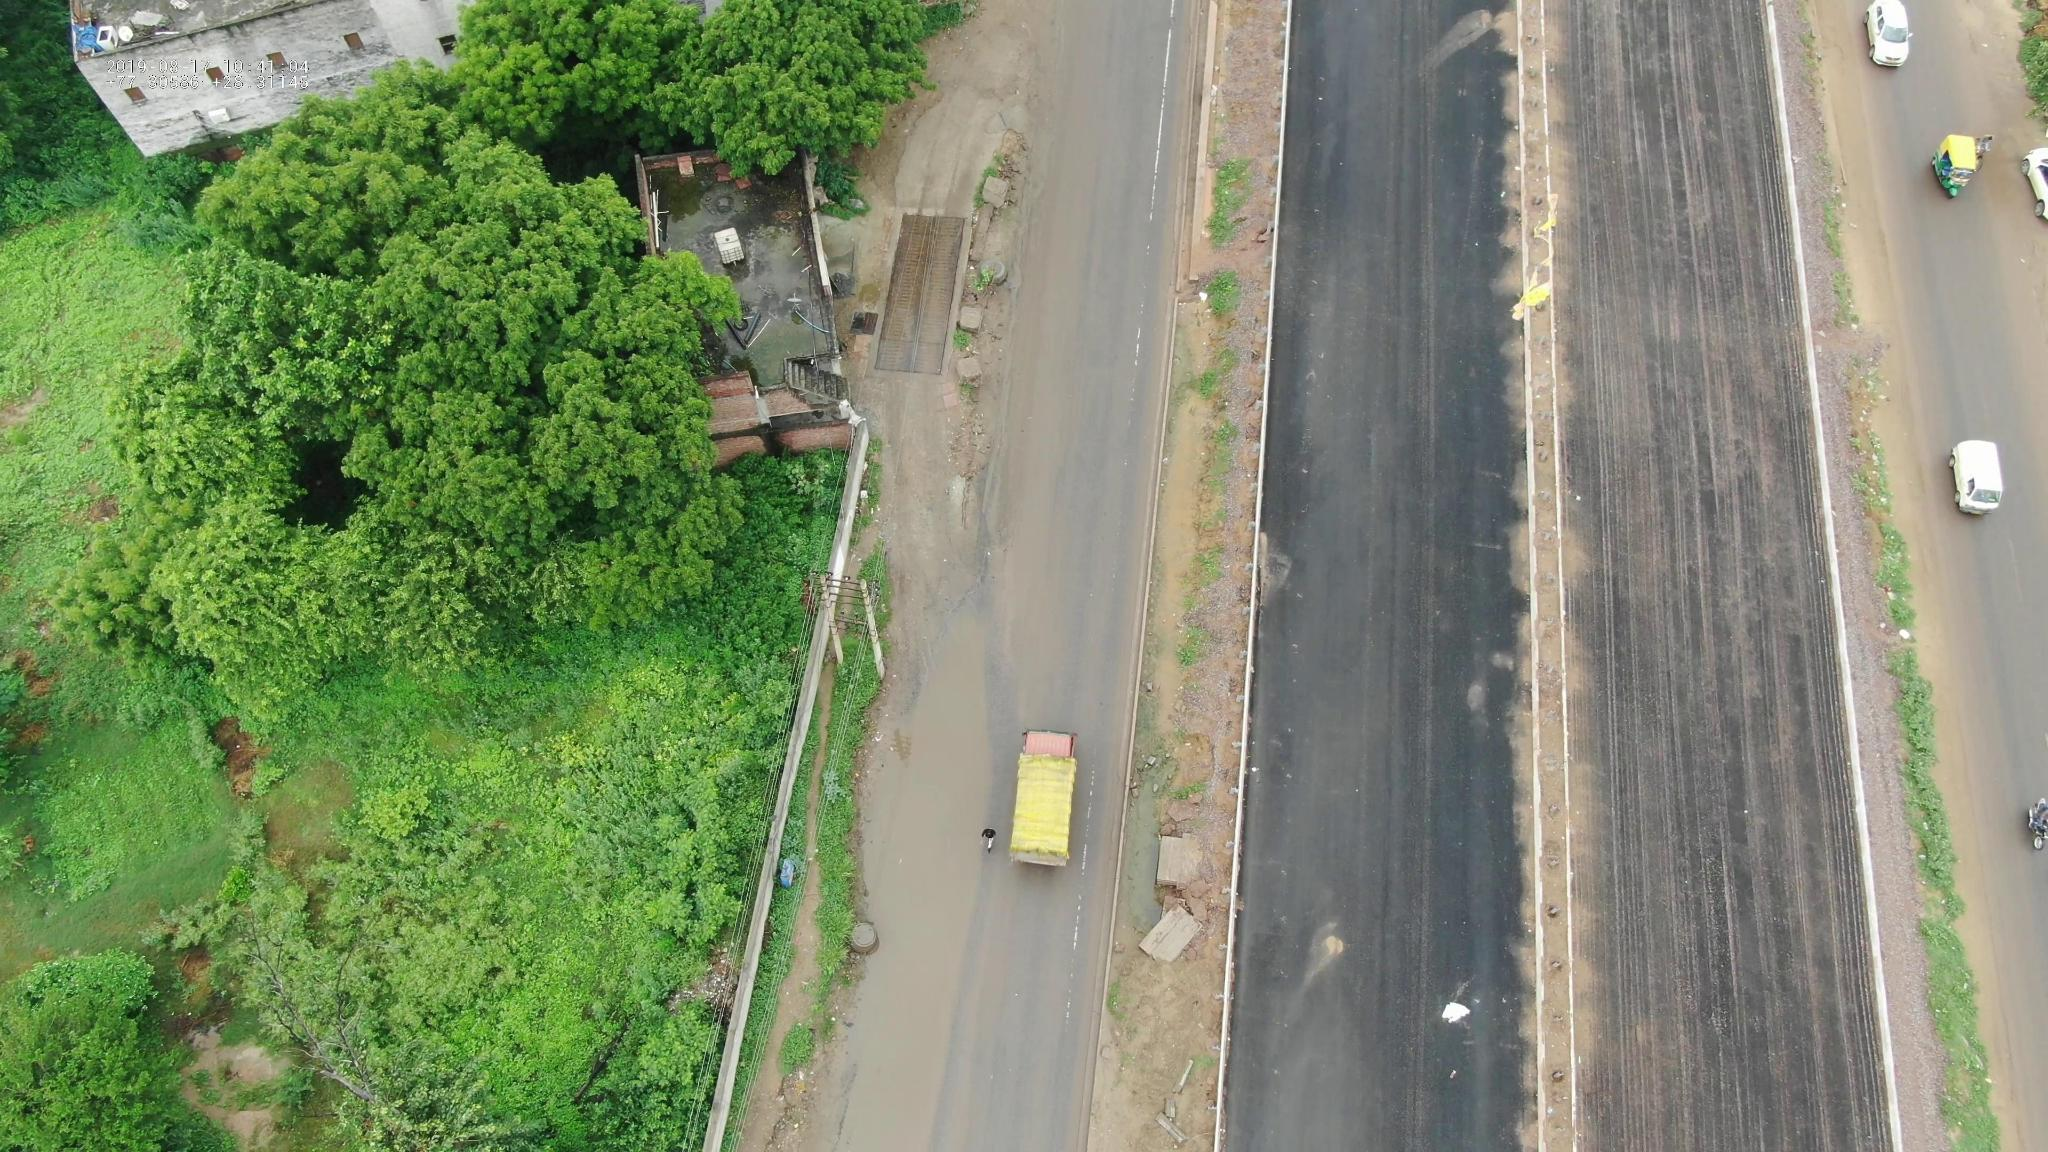Waterlogging: (864, 767, 949, 1045)
